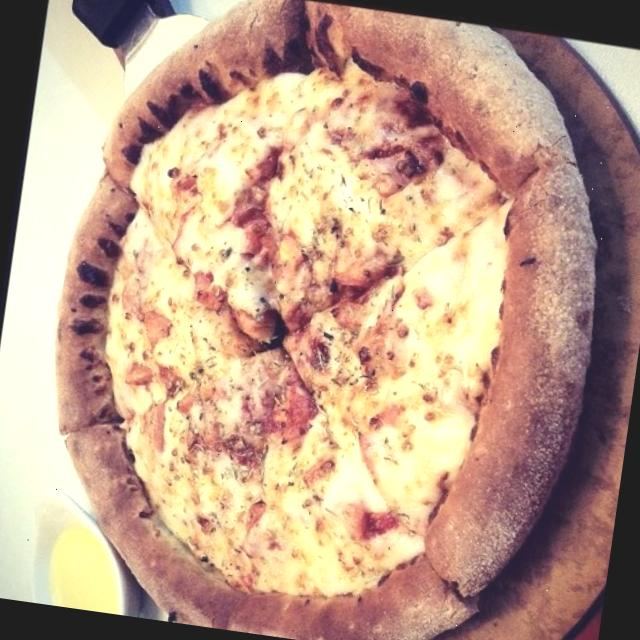pizza: (58, 0, 596, 640)
